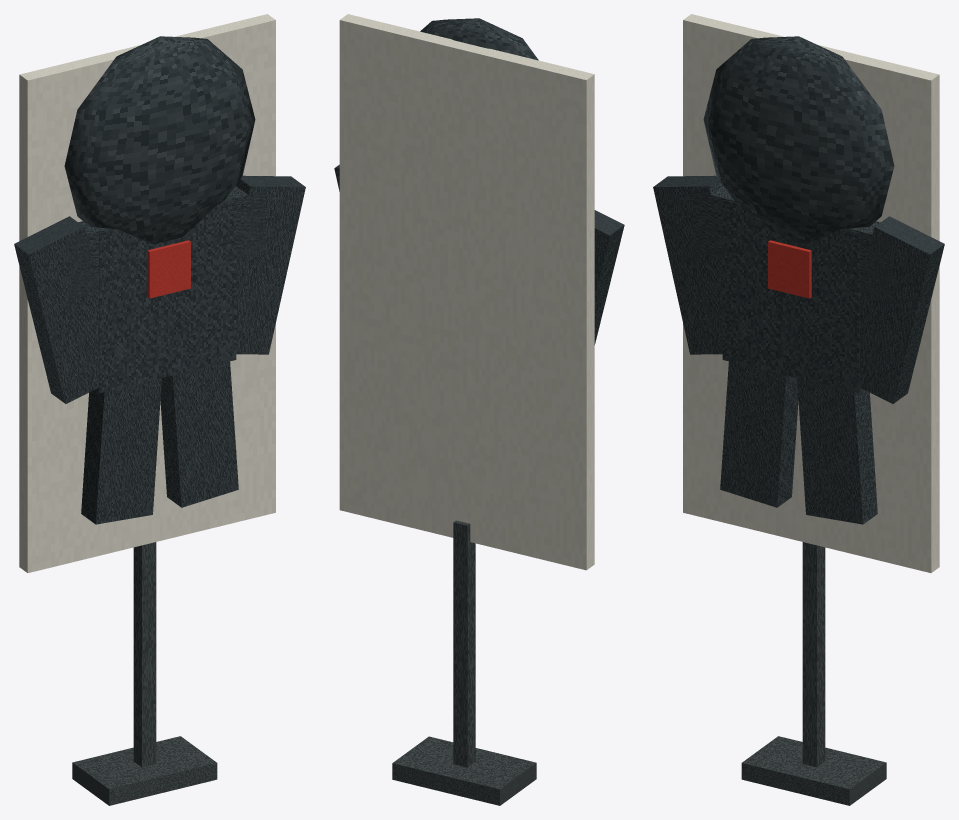
The model's file is target_silhouette.glb.
3 views of the same model, side by side, from view 1: azimuth 30°, elevation 25°; view 2: azimuth 150°, elevation 25°; view 3: azimuth 330°, elevation 25° (orthographic).
Parts seen in each view (by area): view 1: Paper_backing, Head, Torso, Left_arm, Left_leg, Right_leg, Right_arm, Foot, Pole, Shoulders, Chest_aimpoint; view 2: Paper_backing, Foot, Pole, Head, Left_arm; view 3: Paper_backing, Head, Torso, Right_arm, Right_leg, Left_leg, Left_arm, Foot, Pole, Shoulders, Chest_aimpoint.
Boxes of the visible parts, x1,y1,x2,y2 form: Paper_backing: [19, 14, 275, 572]; Head: [64, 36, 255, 244]; Torso: [95, 200, 236, 393]; Left_arm: [14, 216, 98, 403]; Left_leg: [81, 378, 161, 524]; Right_leg: [160, 361, 238, 507]; Right_arm: [236, 175, 305, 354]; Foot: [72, 736, 217, 805]; Pole: [133, 542, 156, 767]; Shoulders: [68, 185, 265, 298]; Chest_aimpoint: [147, 240, 190, 298]; Paper_backing: [339, 14, 594, 570]; Foot: [392, 736, 536, 805]; Pole: [453, 520, 475, 767]; Head: [420, 18, 538, 60]; Left_arm: [594, 210, 624, 344]; Paper_backing: [683, 14, 939, 572]; Head: [703, 36, 894, 244]; Torso: [722, 200, 863, 393]; Right_arm: [860, 216, 944, 403]; Right_leg: [797, 378, 877, 524]; Left_leg: [720, 361, 798, 507]; Left_arm: [653, 175, 722, 354]; Foot: [741, 736, 886, 805]; Pole: [802, 542, 825, 767]; Shoulders: [693, 185, 890, 298]; Chest_aimpoint: [768, 240, 811, 298].
Bounding box in the file's own units: 0.8713 × 2.26 × 0.2676.
4 materials, 4 textured.
